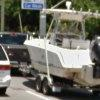Boat: (21, 7, 99, 100)
